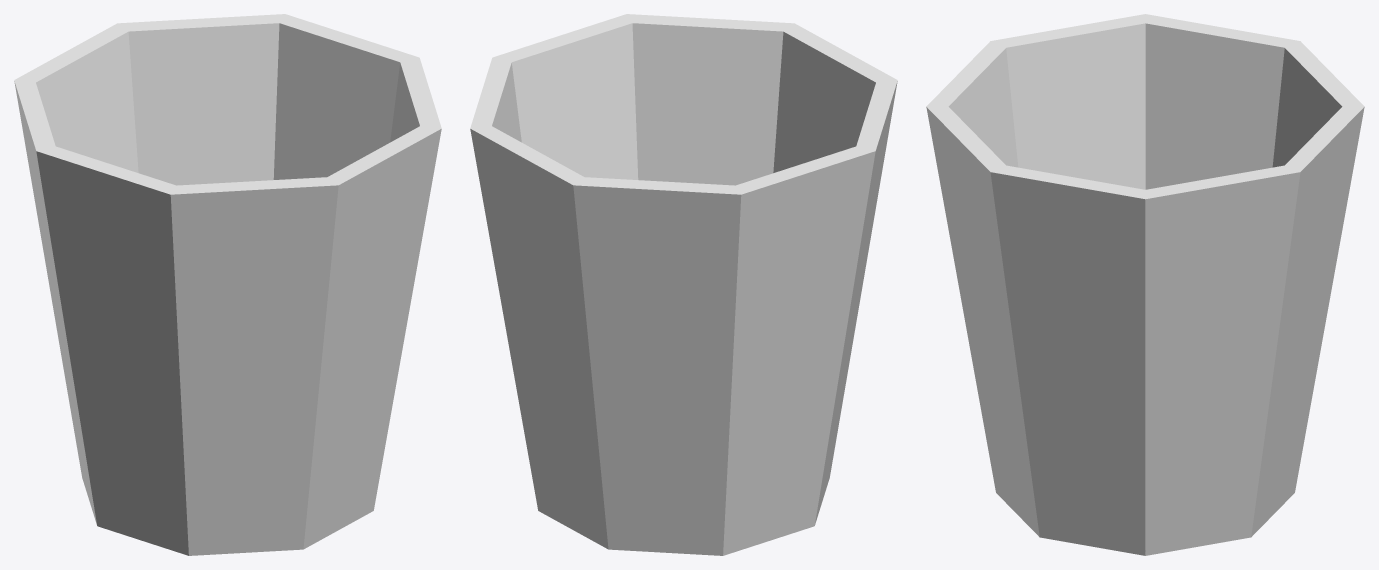
Rendered from glass.gltf.
The picture shows the model from 3 angles, left to right: view 1: azimuth 30°, elevation 25°; view 2: azimuth 150°, elevation 25°; view 3: azimuth 270°, elevation 25°; orthographic projection.
Visible parts, largest first — view 1: Cube; view 2: Cube; view 3: Cube.
Boxes of the visible parts, x1=… form: Cube: x1=14, y1=14, x2=441, y2=555; Cube: x1=470, y1=14, x2=897, y2=555; Cube: x1=926, y1=14, x2=1364, y2=555.
Size of the model in its own units: 2 by 1.94 by 2.
Materials: 1 (1 with a texture image).
